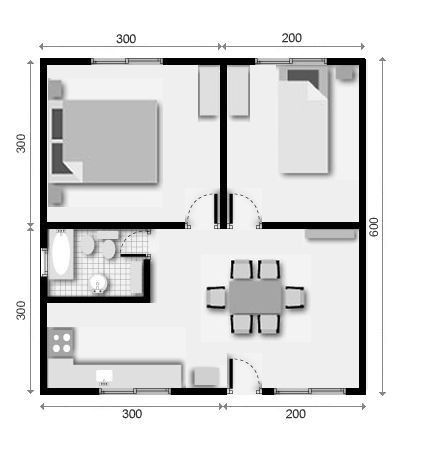door: (181, 190, 218, 227), (226, 353, 260, 391), (230, 189, 254, 225), (120, 229, 154, 254)
room: (43, 227, 368, 399), (32, 48, 227, 228), (224, 46, 370, 234)
wall: (355, 69, 366, 394), (212, 63, 233, 230), (33, 54, 50, 246), (358, 67, 366, 396), (49, 217, 187, 231), (161, 51, 255, 69), (263, 217, 359, 233), (37, 276, 50, 393), (47, 294, 151, 304), (172, 384, 232, 399), (47, 53, 91, 70), (324, 54, 370, 68), (140, 255, 153, 301)
window: (255, 51, 324, 72), (91, 53, 162, 69), (275, 385, 342, 397), (98, 385, 167, 395)
